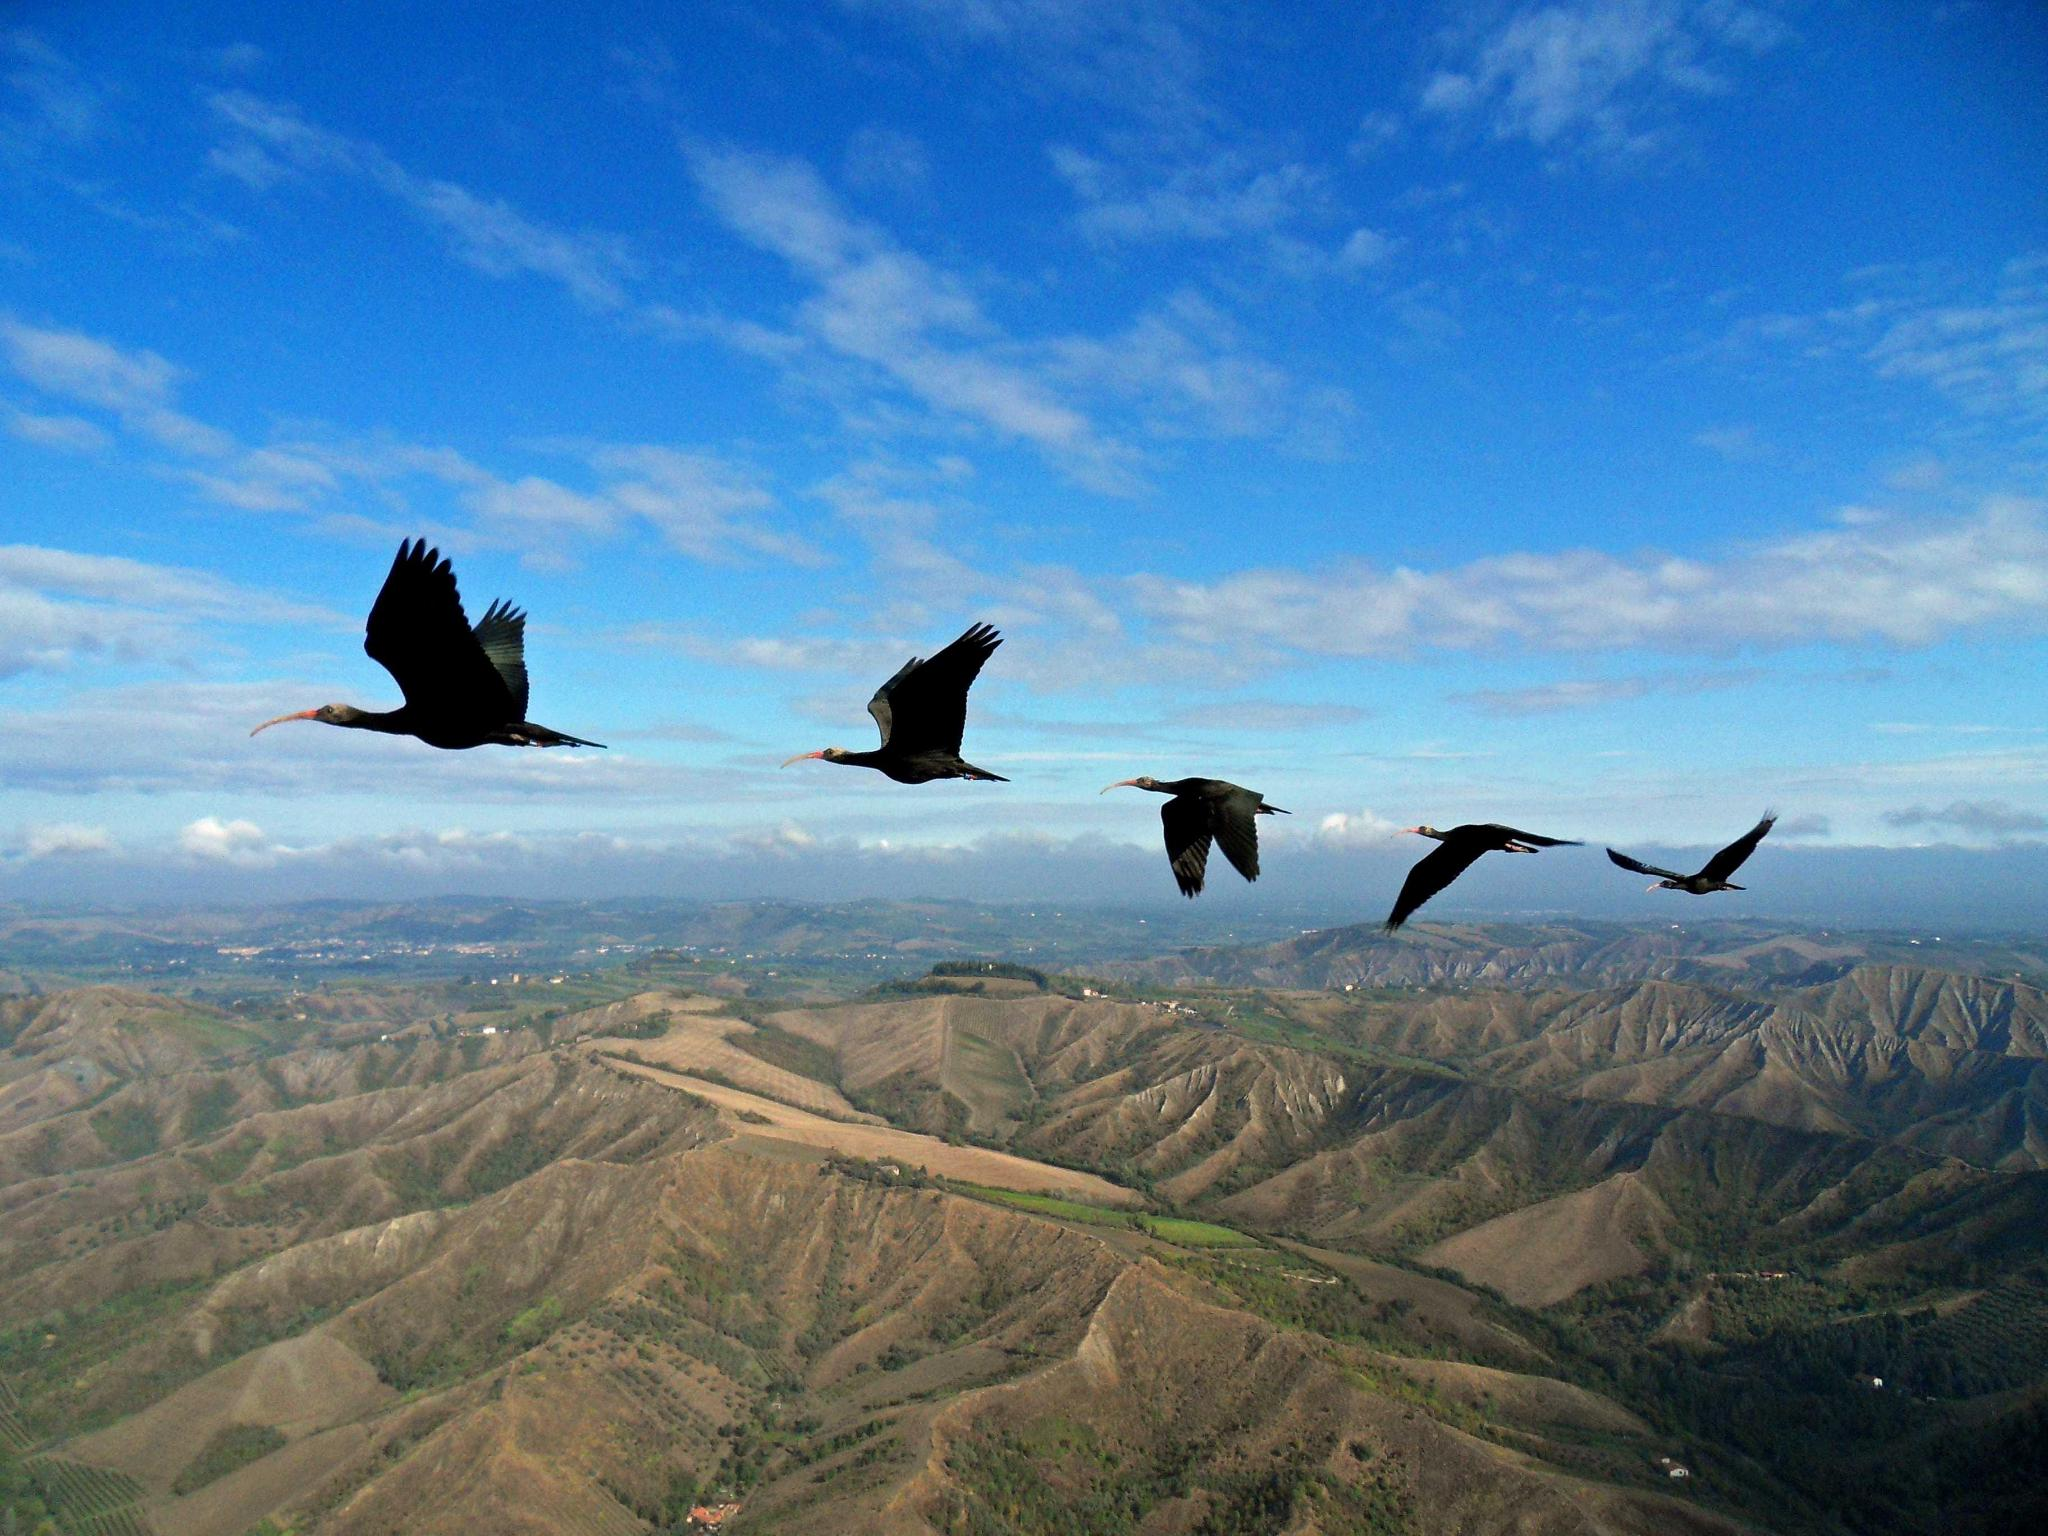bird: (232, 503, 635, 824), (758, 602, 1022, 854), (1059, 762, 1321, 912), (1350, 786, 1585, 945), (1601, 794, 1800, 949)
